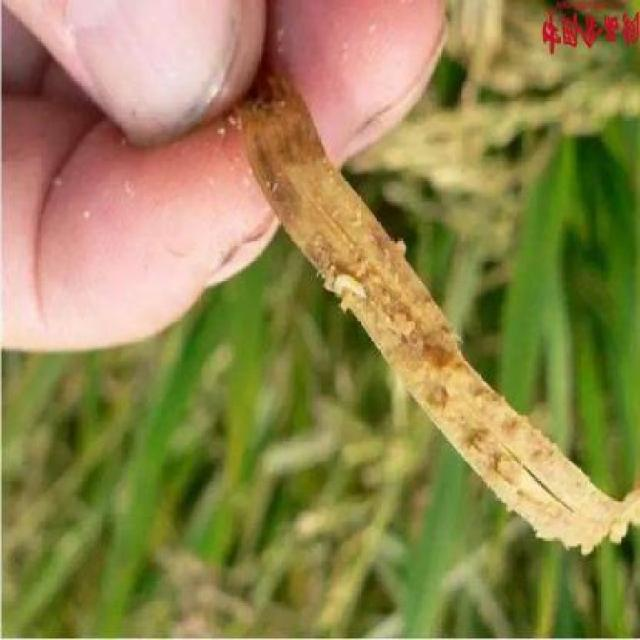whorl-maggot: (332, 269, 370, 305)
